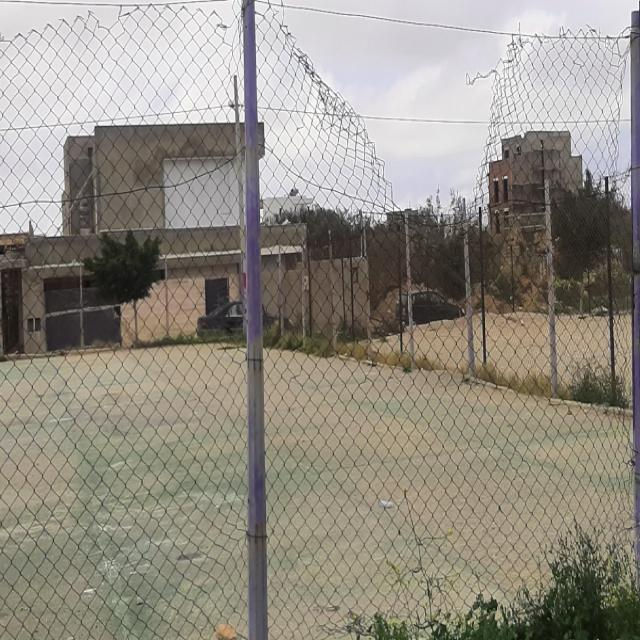fence line: (304, 32, 498, 210)
